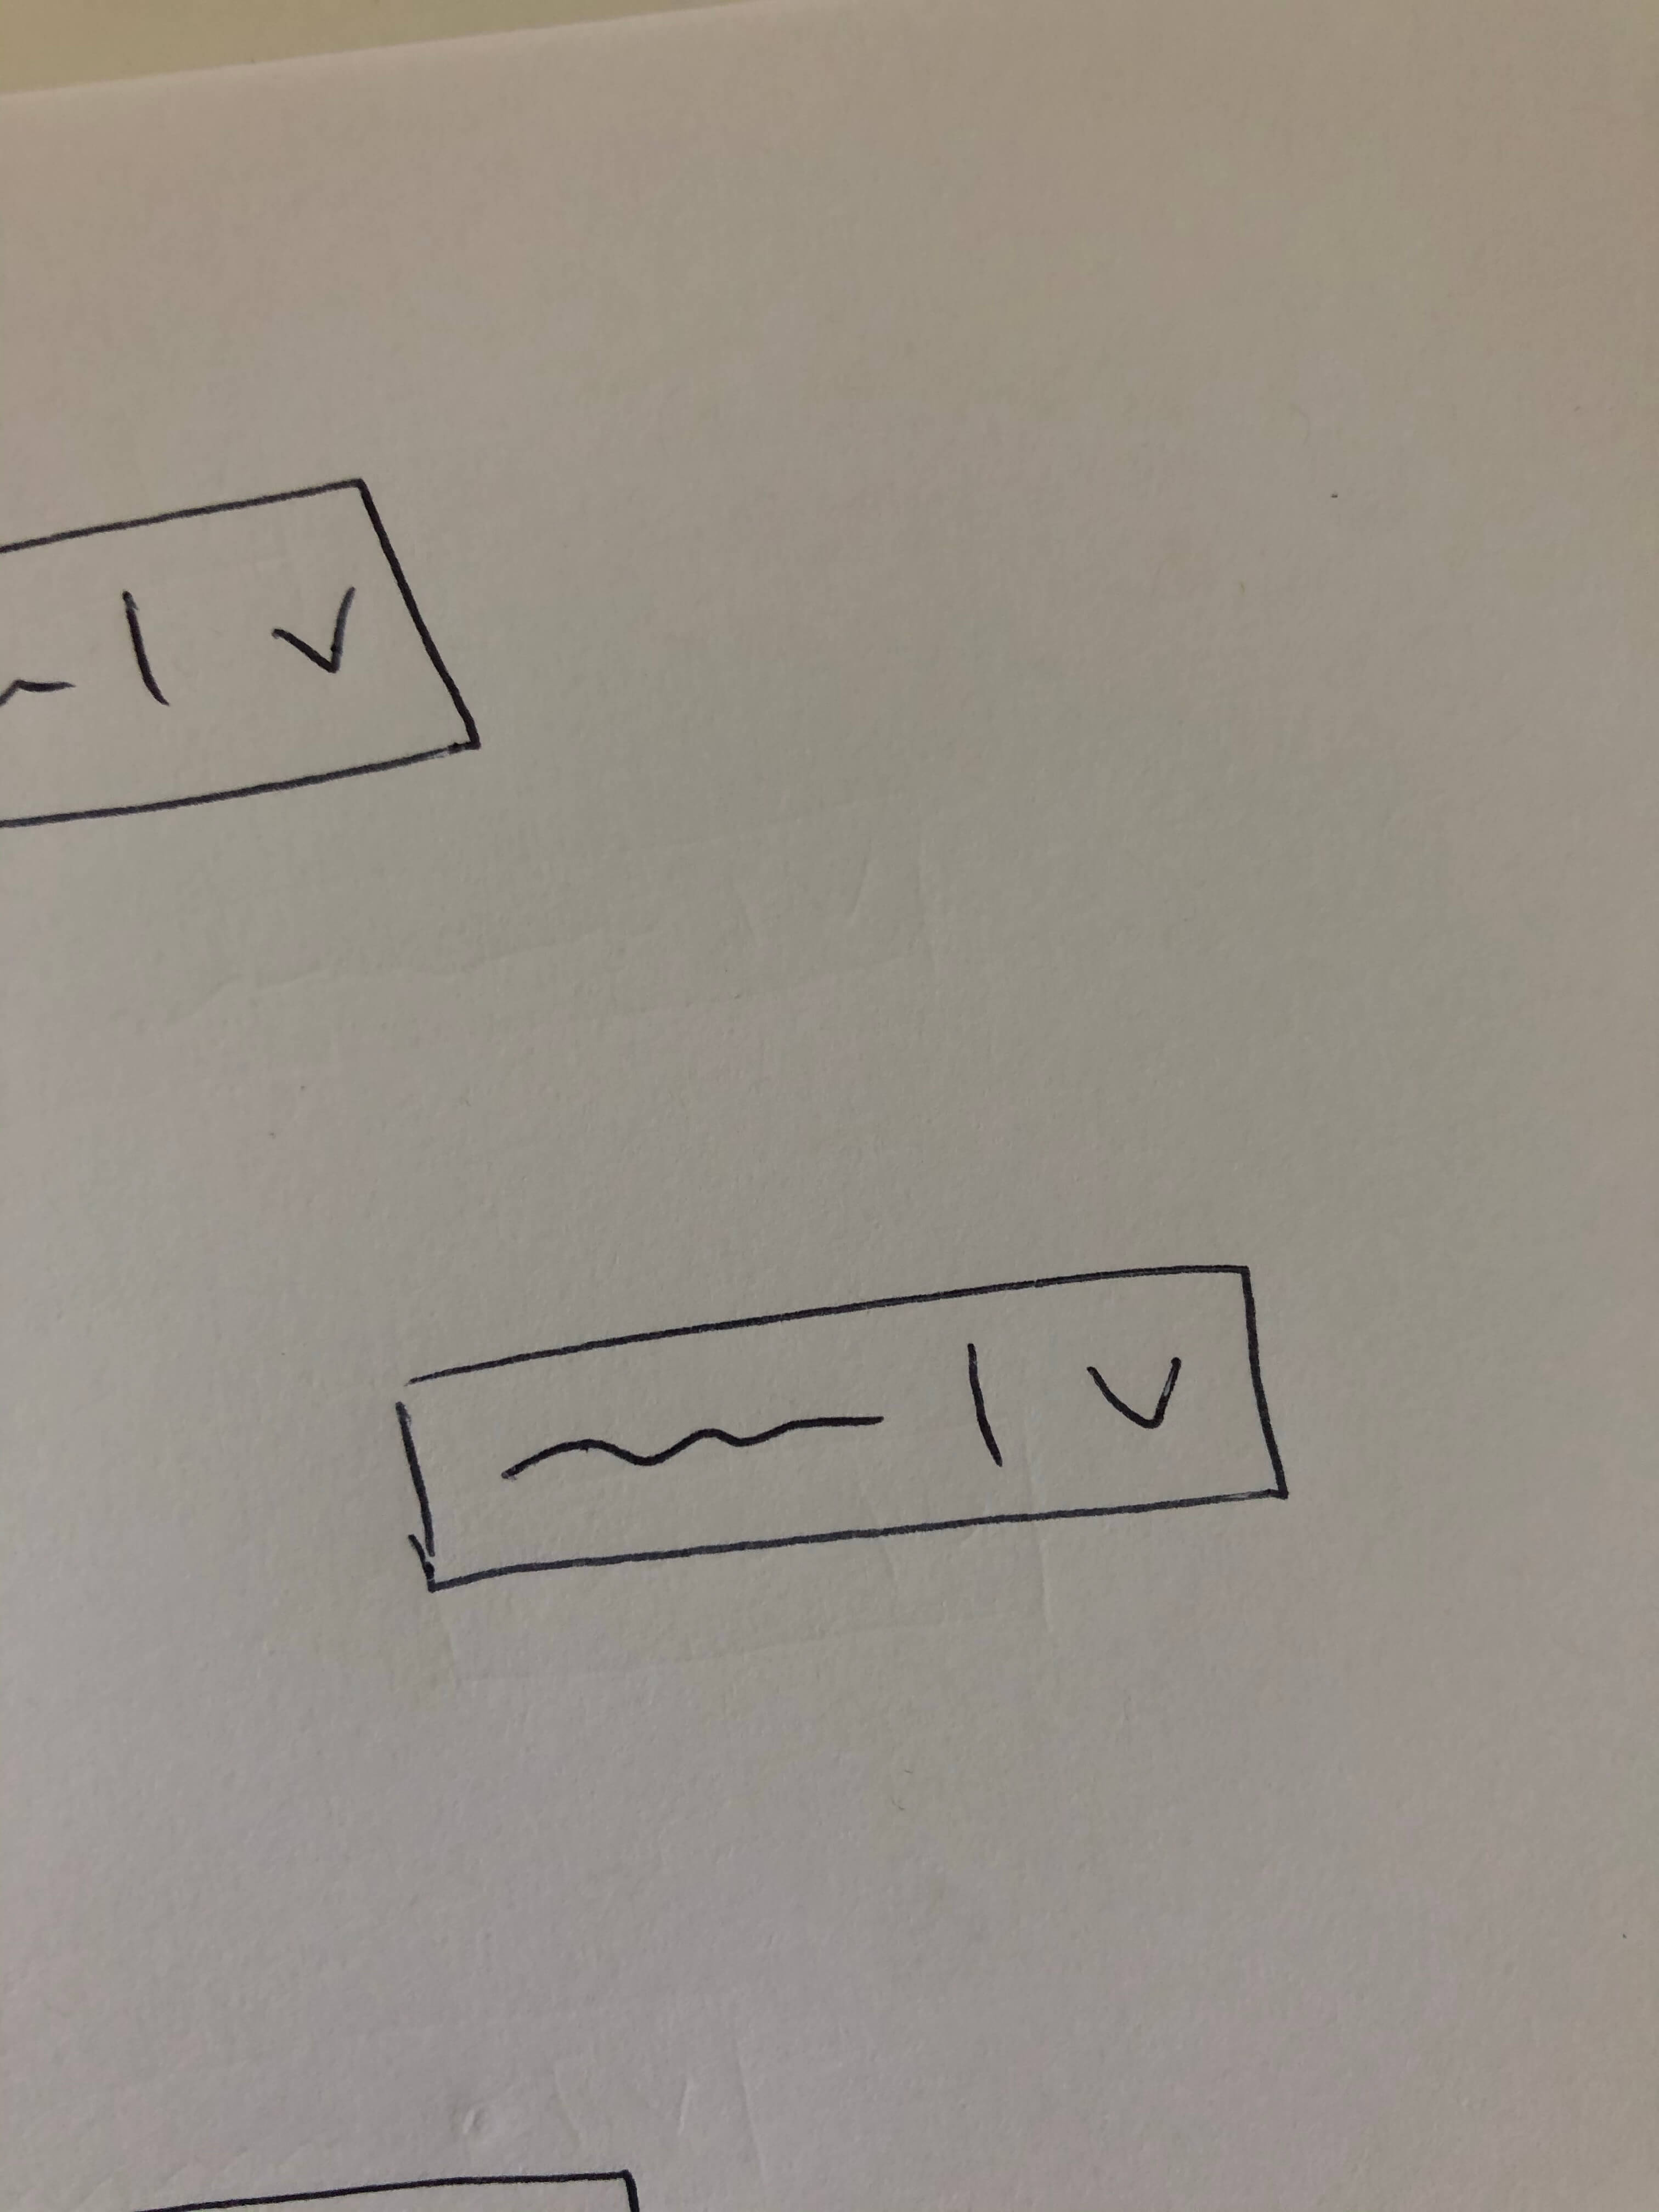split-button: (387, 1254, 1328, 1608)
